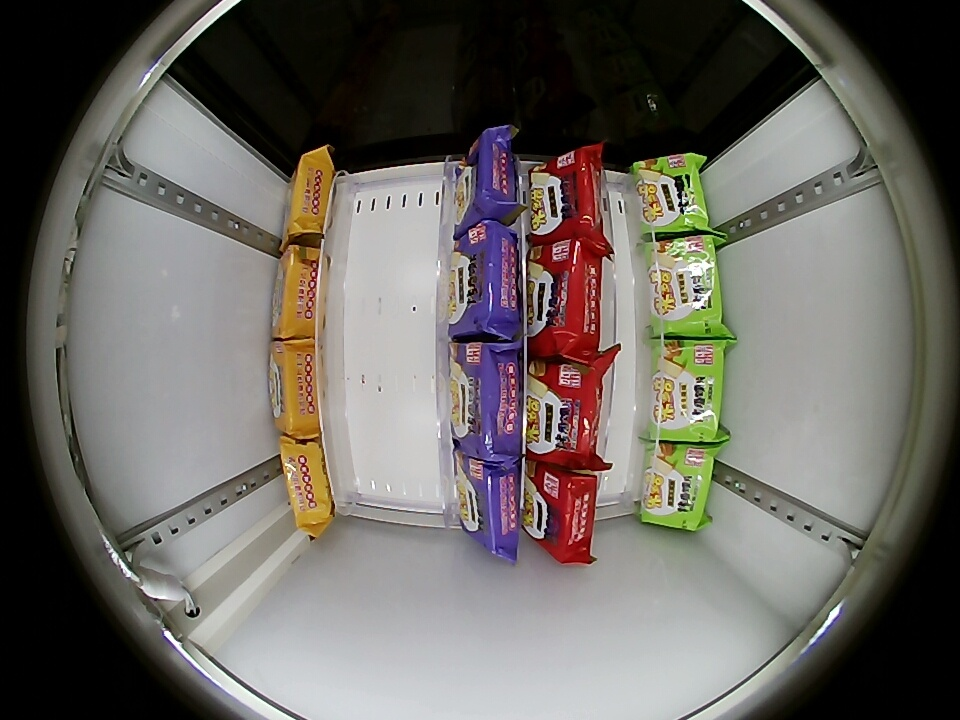kaomo_gali: (269, 340, 324, 437), (271, 247, 328, 340), (279, 436, 334, 530), (284, 149, 337, 242)
kaomo_jiaoyan: (445, 220, 520, 340), (449, 342, 520, 461), (449, 128, 521, 237), (452, 448, 520, 556)
kaomo_shaokao: (527, 239, 604, 358), (524, 359, 607, 464), (527, 149, 606, 246), (522, 461, 597, 561)
kaomo_xiangcon: (646, 235, 723, 337), (649, 340, 726, 441), (641, 441, 716, 530), (633, 155, 710, 236)
